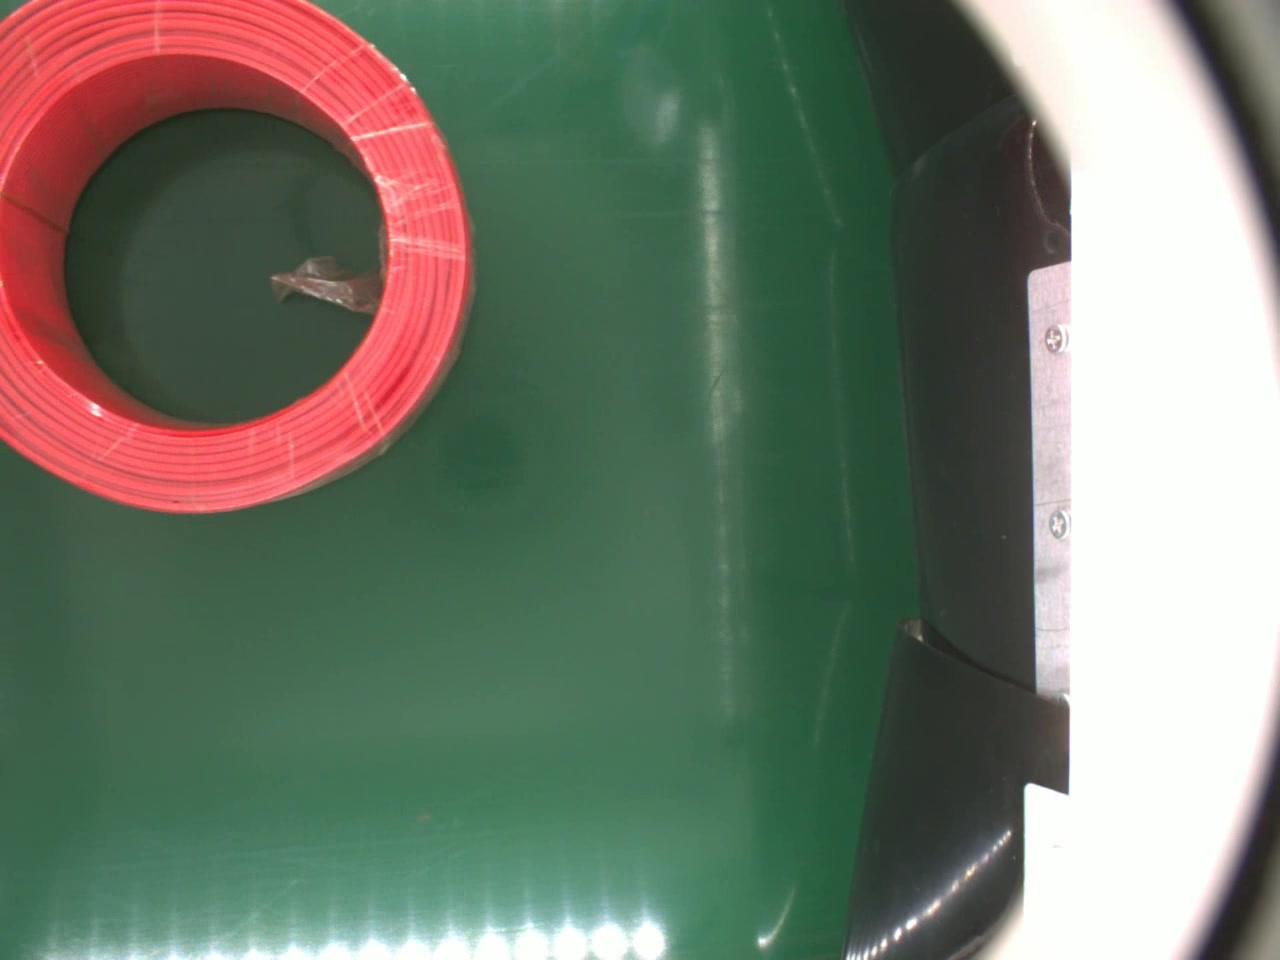red: (0, 0, 475, 519)
